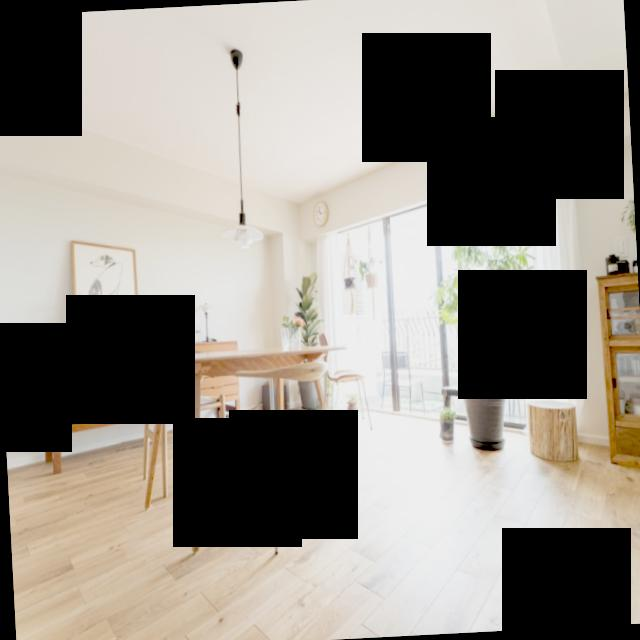vintage chair: (222, 361, 346, 552)
vintage desk: (111, 339, 354, 561)
vintage shelf: (36, 338, 144, 479), (591, 266, 640, 477)
